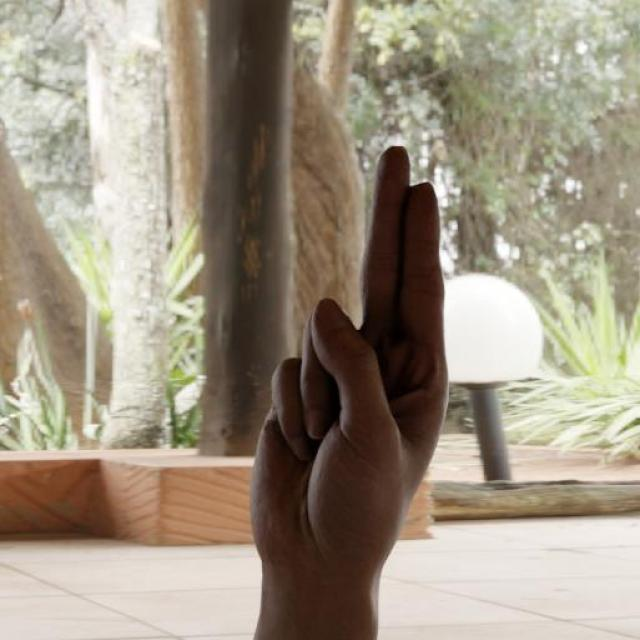U: (243, 143, 452, 562)
